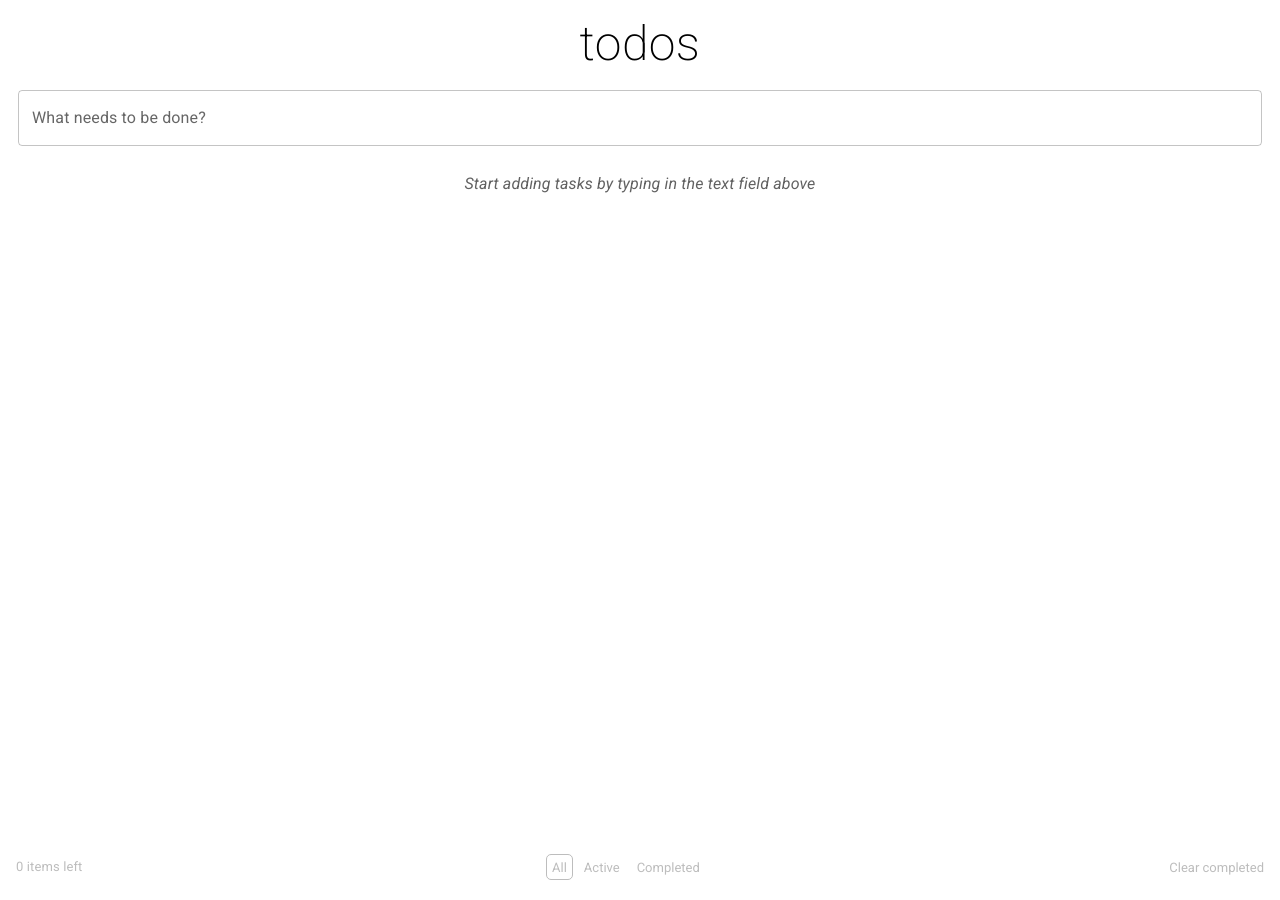
Test: App › удаляет задачу
Type "Task to delete" into the field labelled "What needs to be done?" at (640, 118), box left=18, top=90, right=1262, bottom=146
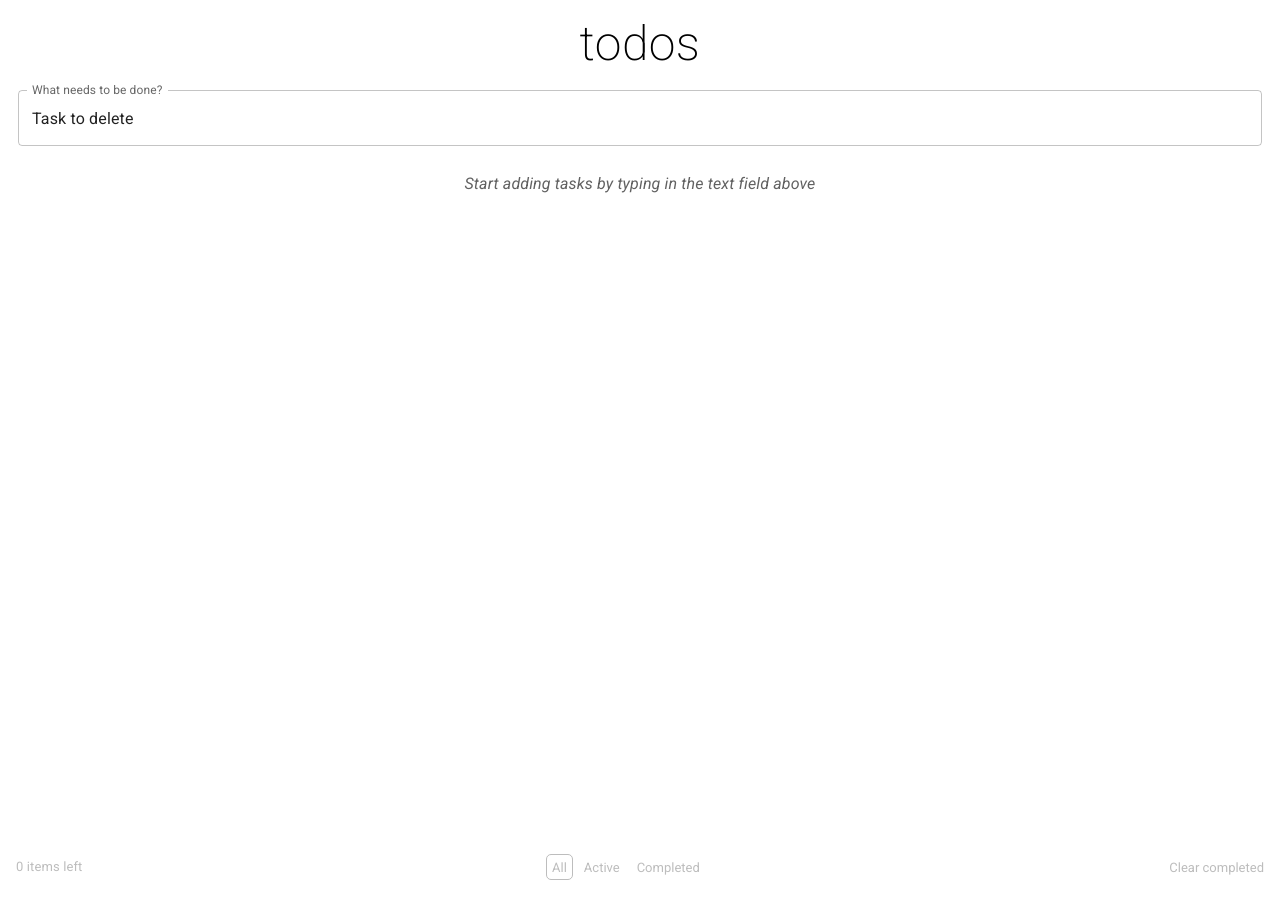
Press Enter in the field labelled "What needs to be done?", box left=18, top=90, right=1262, bottom=146
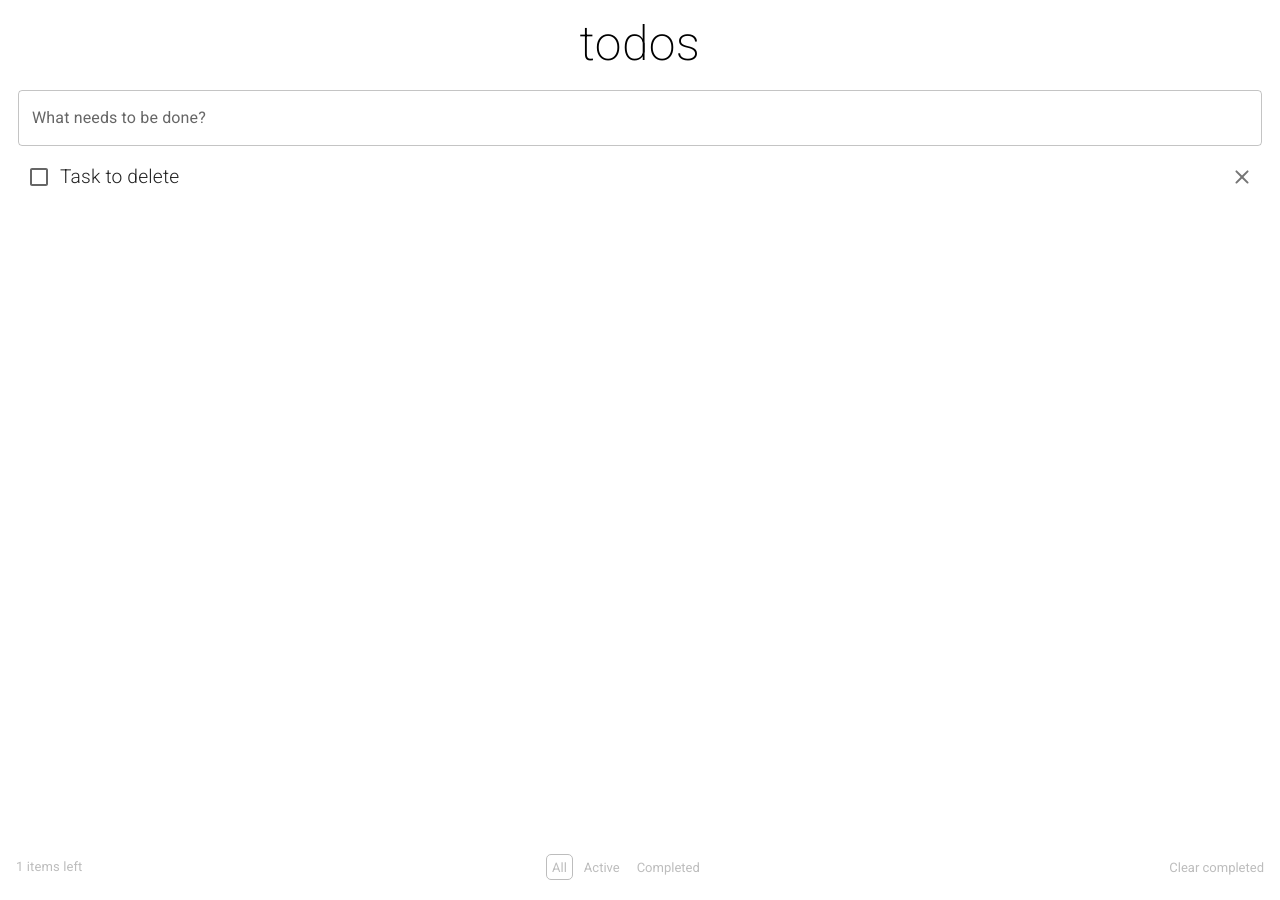
Click the button named "удалить" at (1242, 177), box left=1222, top=156, right=1262, bottom=198
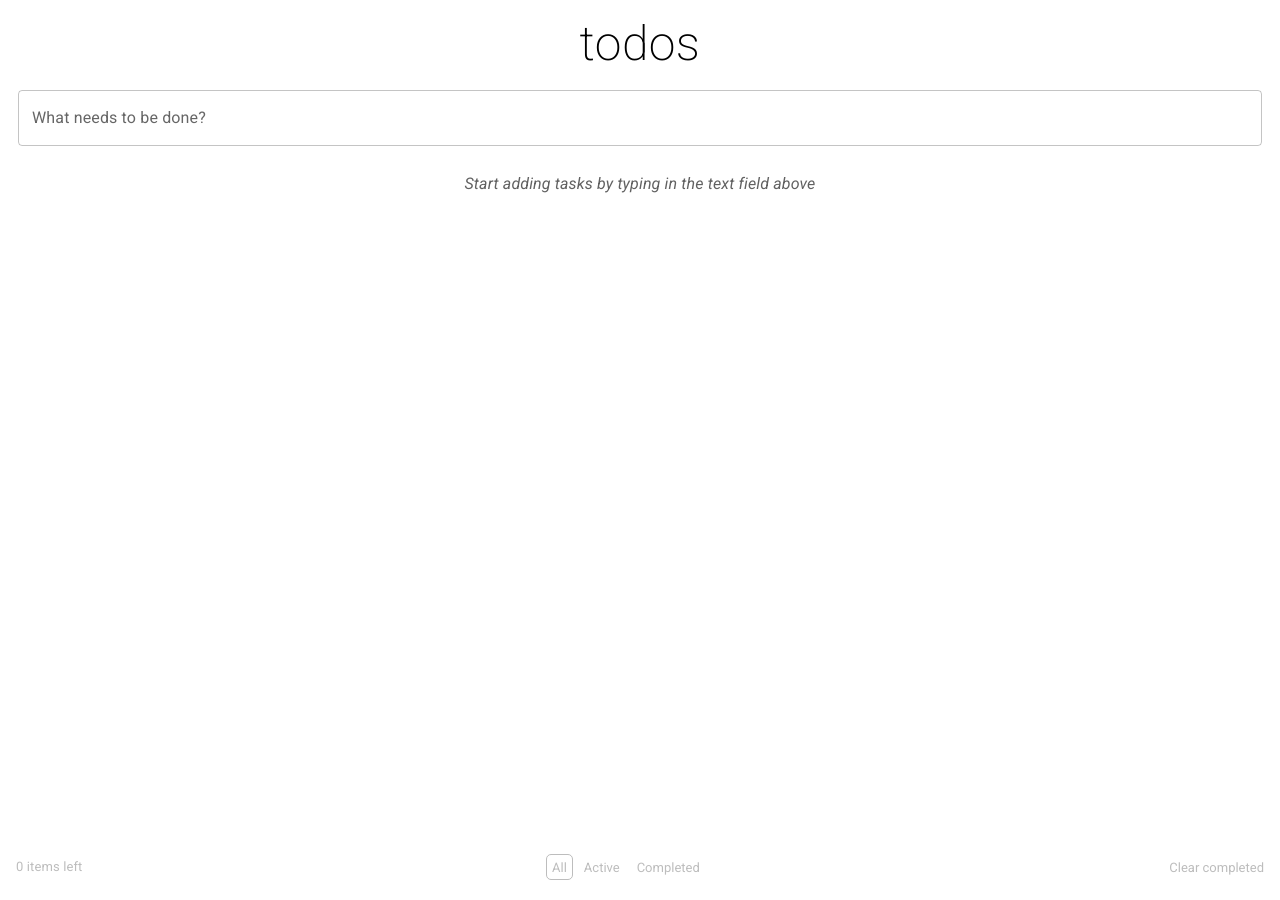
Expected: the text "Task to delete" is gone
